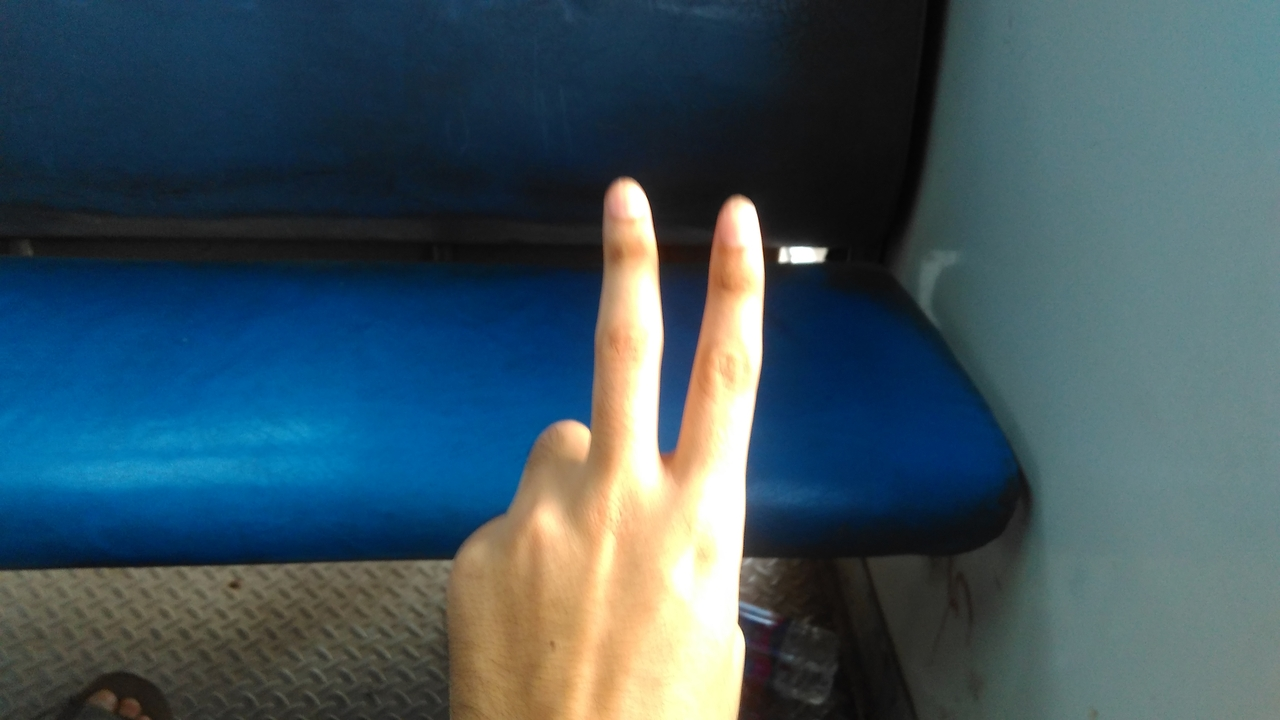fingertip: (594, 166, 656, 232), (704, 186, 764, 250)
